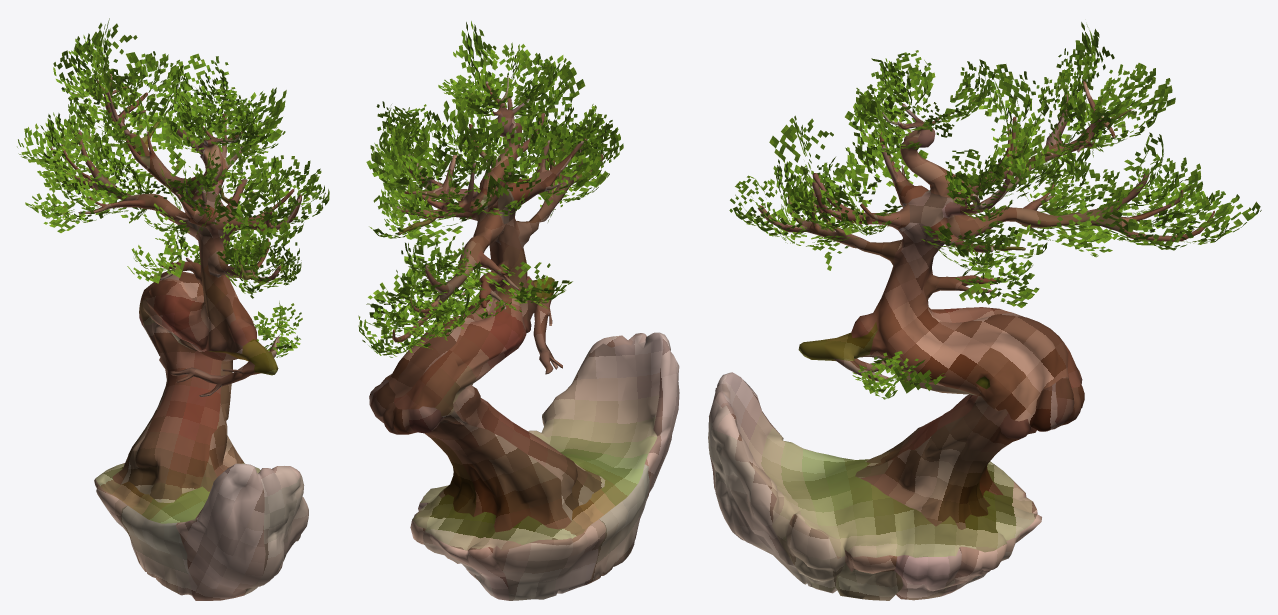
The model's file is morph-hero.glb.
3 renders of one model, left to right at view 1: azimuth 30°, elevation 25°; view 2: azimuth 150°, elevation 25°; view 3: azimuth 270°, elevation 25°, orthographic. The views are drawn at different scales.
Visible parts, largest first — view 1: object 1, Crown_branch base color_0; view 2: object 1, Crown_branch base color_0; view 3: object 1, Crown_branch base color_0.
Boxes of the visible parts, x1,y1,x2,y2 form: object 1: (50,73,308,600); Crown_branch base color_0: (17,18,329,357); object 1: (369,76,679,600); Crown_branch base color_0: (358,21,623,357); object 1: (708,81,1214,600); Crown_branch base color_0: (729,22,1261,399).
Bounding box in the file's own units: 237 × 504 × 459.
Materials: 2 (2 with a texture image).
